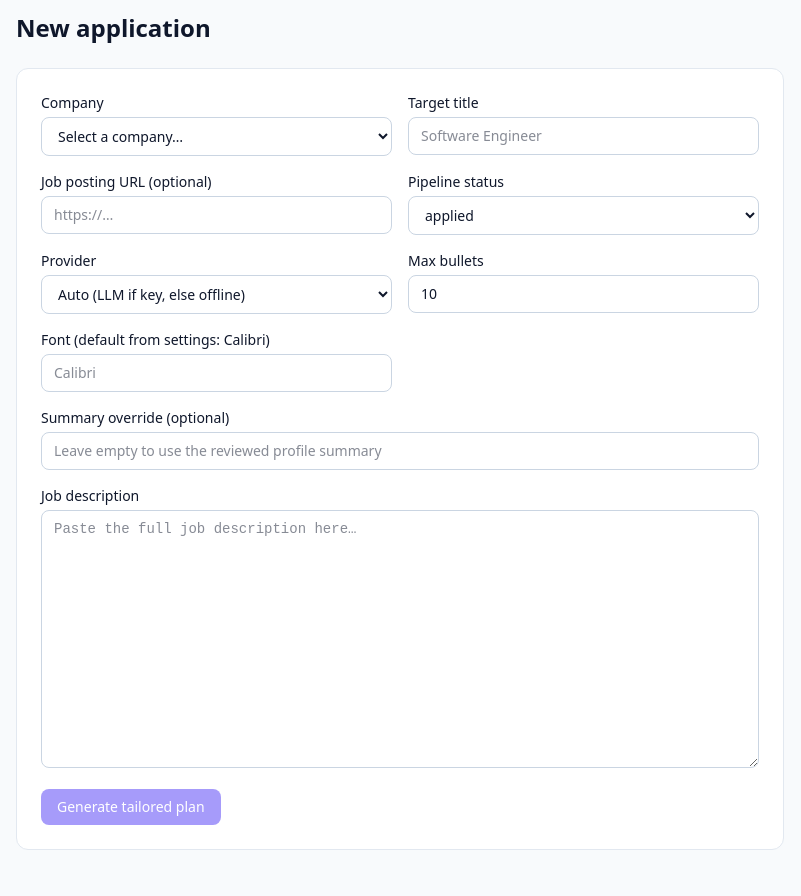
it: NewJobPage › shows a friendly alert when the API rejects the run
Select "Goodspace" in the dropdown labelled "Company" at x=216, y=136, box [41,117,392,156]
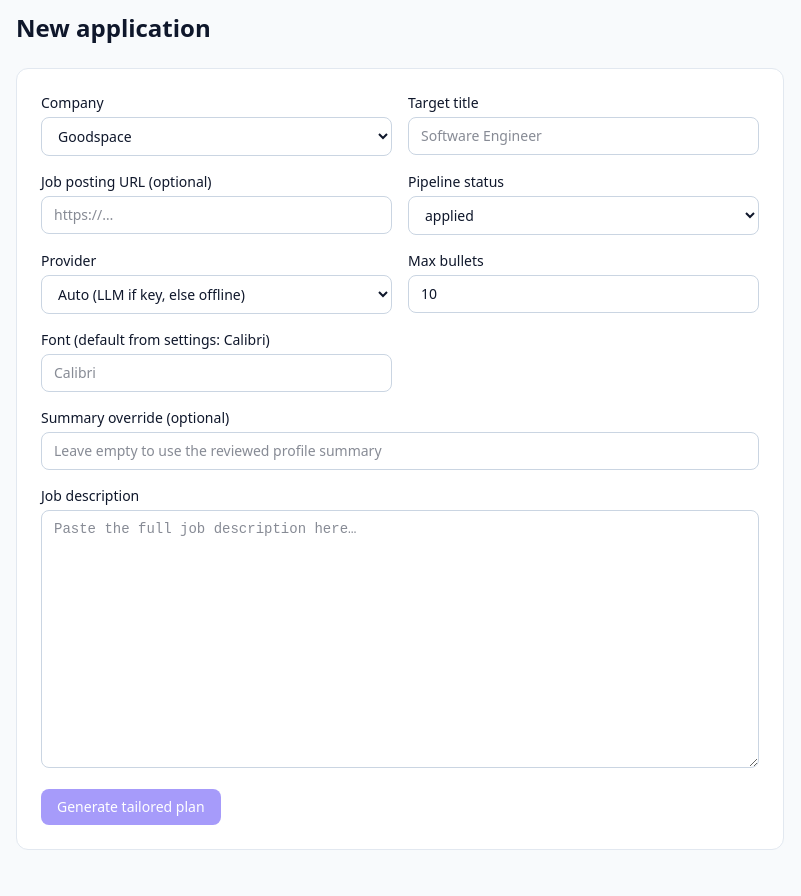
Type "Platform Engineer" into the field labelled "Target title" at x=584, y=136, box [408,117,759,155]
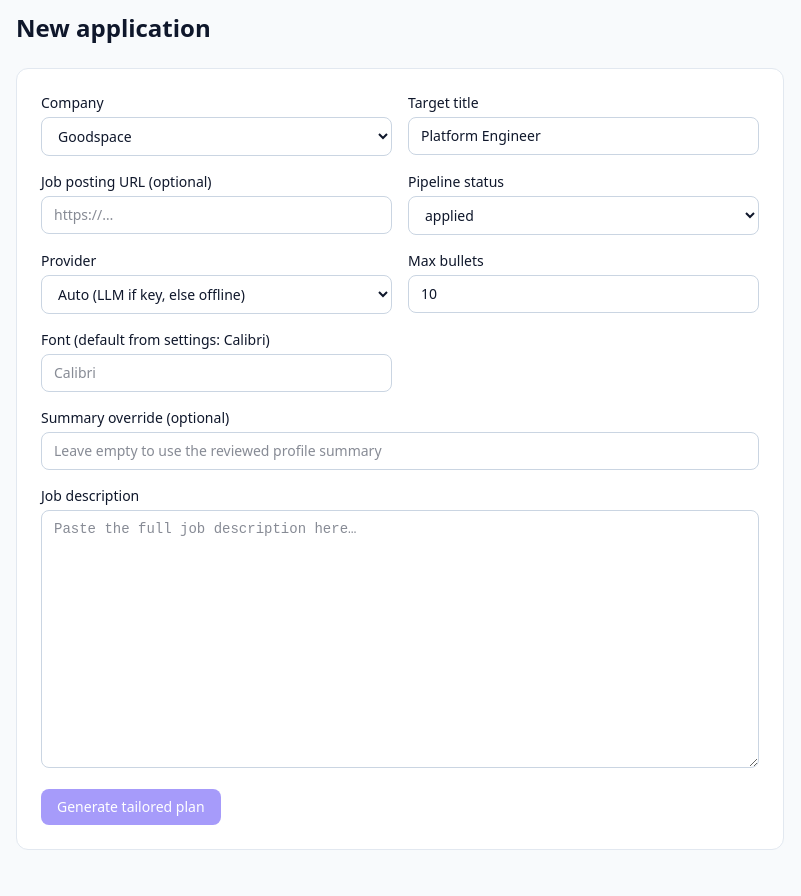
Type "We need Python and FastAPI engineers." into the text box labelled "Job description" at x=400, y=639, box [41,510,759,768]
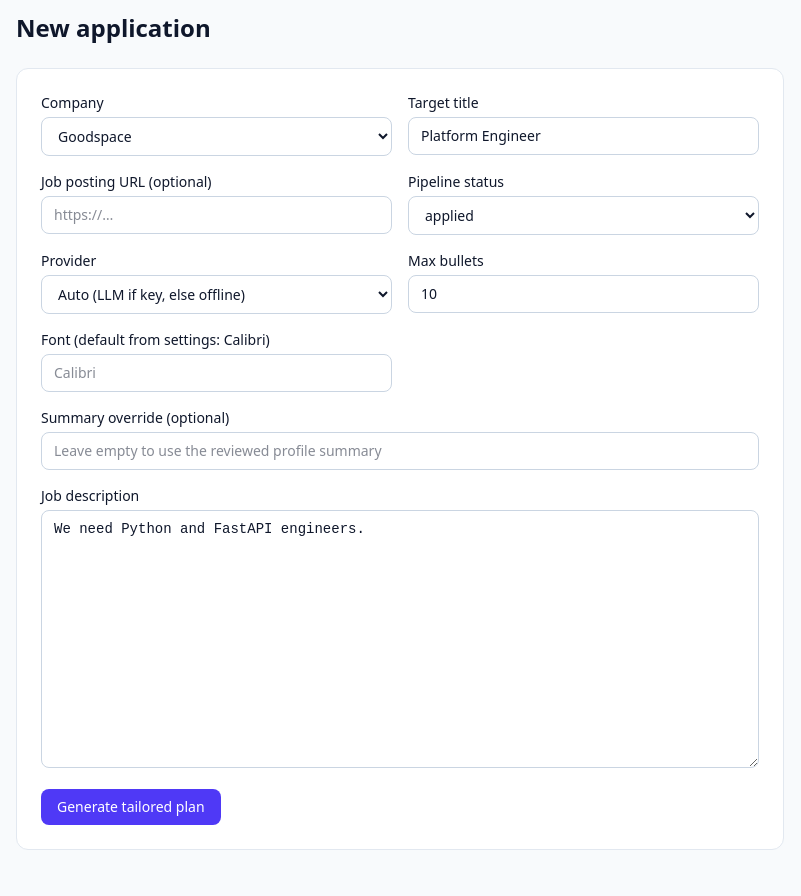
Click the button "Generate tailored plan" at x=131, y=807, box [41,789,221,825]
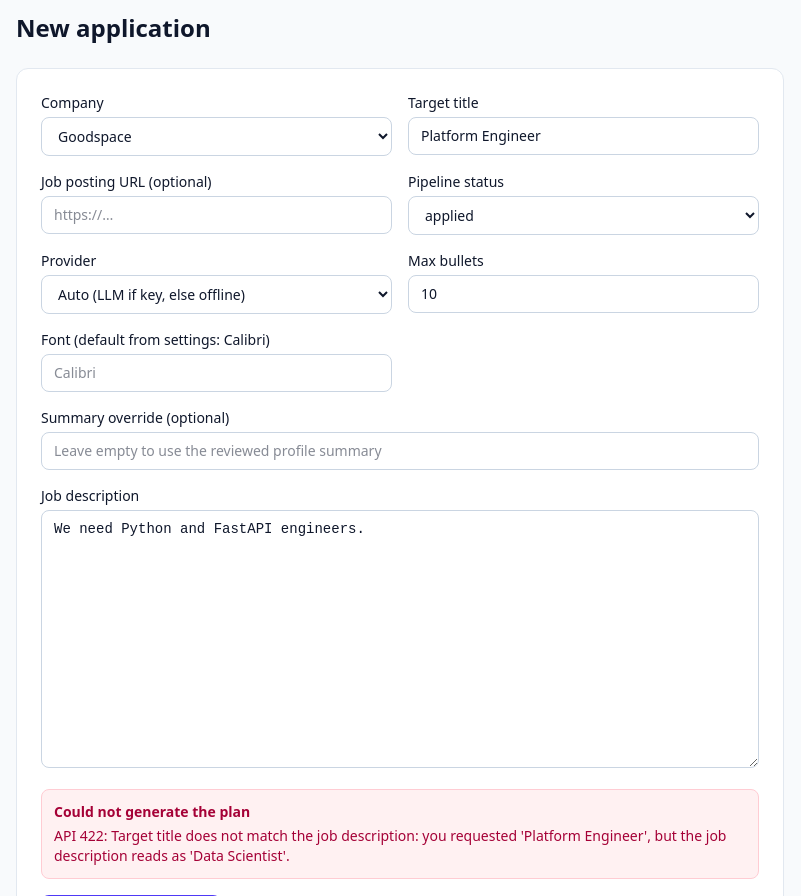
Check: the message is shown, box [41,789,759,879]
Check: the text "Could not generate the plan" is shown, box [54,802,250,821]
Check: the text "reads as 'Data Scientist'" is shown, box [54,826,726,865]
